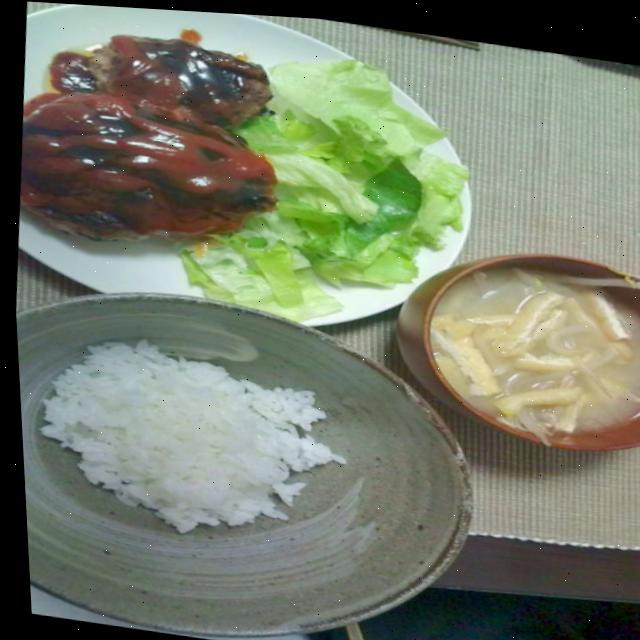汤锅炖物: (368, 225, 640, 462)
米饭主食: (11, 266, 496, 640)
蔬菜料理: (156, 30, 507, 346)
